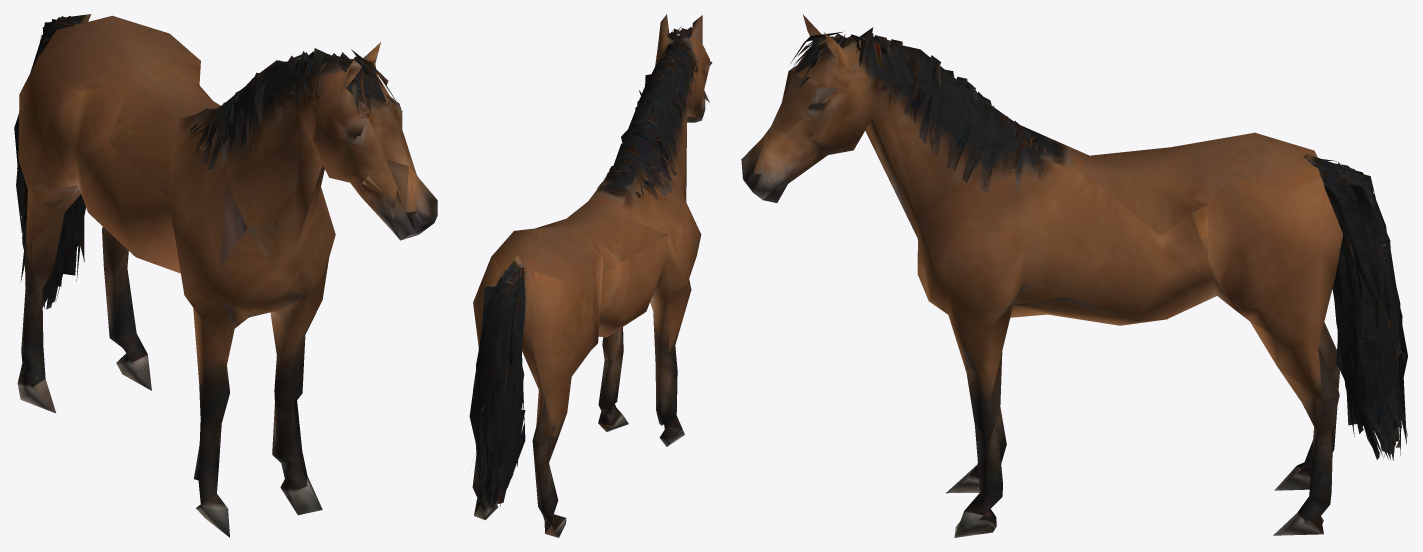
File: mount_legacy_bay_horse_2.glb
3 renders of one model, left to right at view 1: azimuth 30°, elevation 25°; view 2: azimuth 150°, elevation 25°; view 3: azimuth 270°, elevation 25°, orthographic. The views are drawn at different scales.
Parts seen in each view (by area): view 1: MeshyGear_mount_legacy_bay_horse; view 2: MeshyGear_mount_legacy_bay_horse; view 3: MeshyGear_mount_legacy_bay_horse.
Part boxes in pixels (left/top/right/bottom): MeshyGear_mount_legacy_bay_horse: left=14, top=14, right=437, bottom=537; MeshyGear_mount_legacy_bay_horse: left=469, top=14, right=712, bottom=537; MeshyGear_mount_legacy_bay_horse: left=741, top=14, right=1407, bottom=537.
Size of what is drawn, in the model's own units: 0.5101 by 1.69 by 2.03.
Materials: 1 (1 with a texture image).
